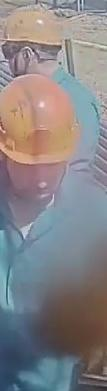goggles: (1, 44, 20, 60)
helmet: (0, 73, 80, 165), (0, 8, 66, 47)
vest: (0, 173, 107, 391), (52, 68, 102, 165)
